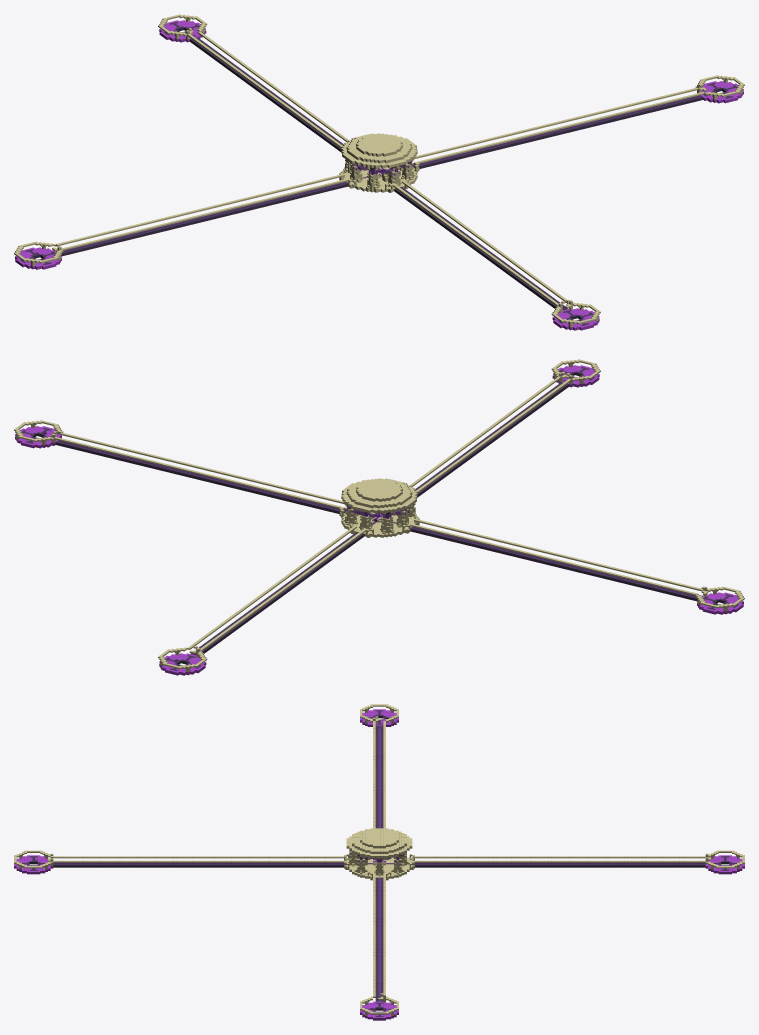
File: pregame.glb
The picture shows the model from 3 angles, top to bottom: view 1: azimuth 30°, elevation 25°; view 2: azimuth 150°, elevation 25°; view 3: azimuth 270°, elevation 25°; orthographic projection. The views are drawn at different scales.
Parts seen in each view (by area): view 1: minecraft:purple_stained_glass_pane; view 2: minecraft:purple_stained_glass_pane; view 3: minecraft:purple_stained_glass_pane.
Boxes of the visible parts, x1,y1,x2,y2 form: minecraft:purple_stained_glass_pane: [14, 14, 744, 330]; minecraft:purple_stained_glass_pane: [14, 359, 744, 675]; minecraft:purple_stained_glass_pane: [14, 704, 744, 1020].
Size of the model in its own units: 279 by 12.99 by 279.
Materials: 10 (10 with a texture image).
